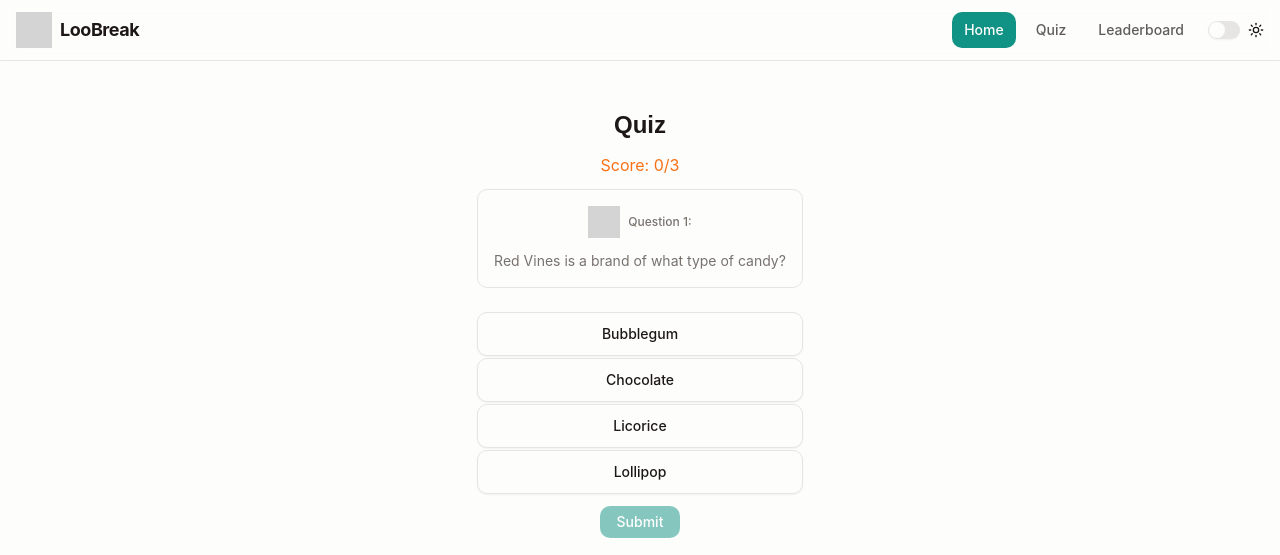
Scenario: Quiz Page › Navigates to next question when → button is clicked
Check: the text "Red Vines is a brand of what type of candy?" is shown, box [494,250,786,271]
Check: the text "Question 1:" is shown, box [628,214,692,230]
What coordinates should you click on to do the following:
click the button "Chocolate"
I would click on:
 (640, 380)
Its box is [477,358,803,402].
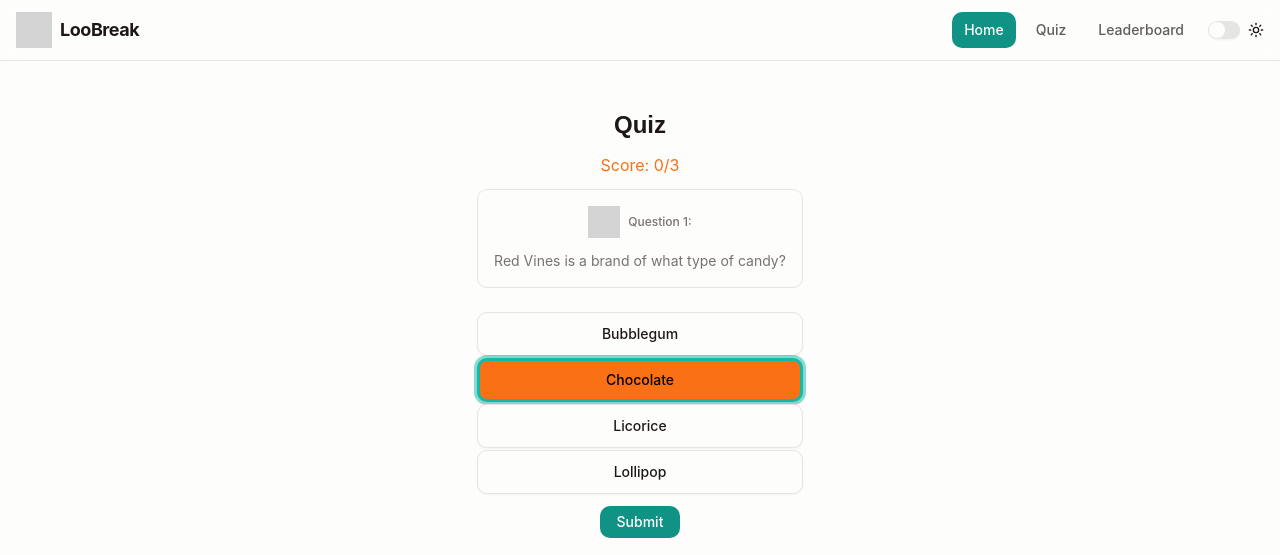
What coordinates should you click on to do the following:
click the button "Submit"
I would click on:
 (640, 522)
Its box is [600,506,680,538].
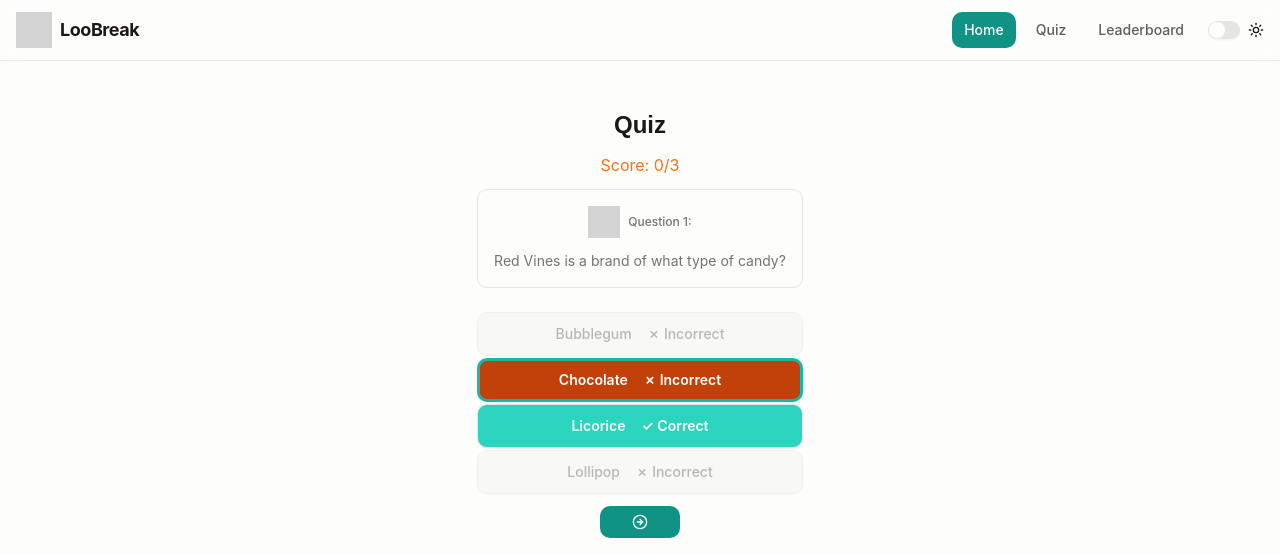
What coordinates should you click on to do the following:
click the button with test id "arrow-button"
I would click on:
 (640, 522)
Its box is [600,506,680,538].
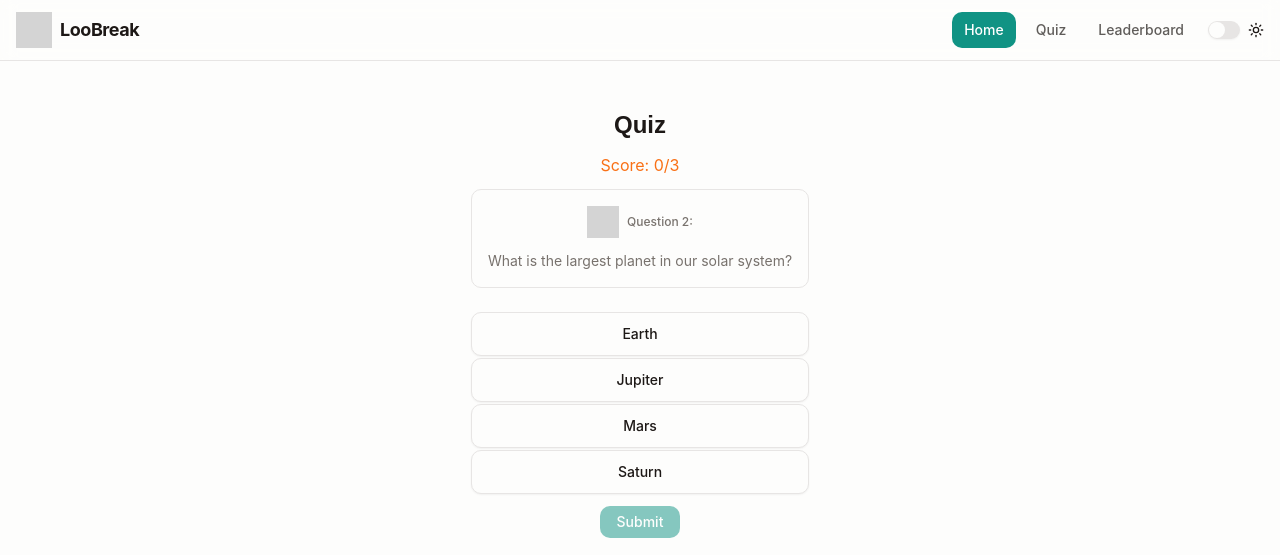
Check: the text "What is the largest planet in our solar system?" is shown, box [488,250,792,271]
Check: the text "Question 2:" is shown, box [627,214,693,230]
